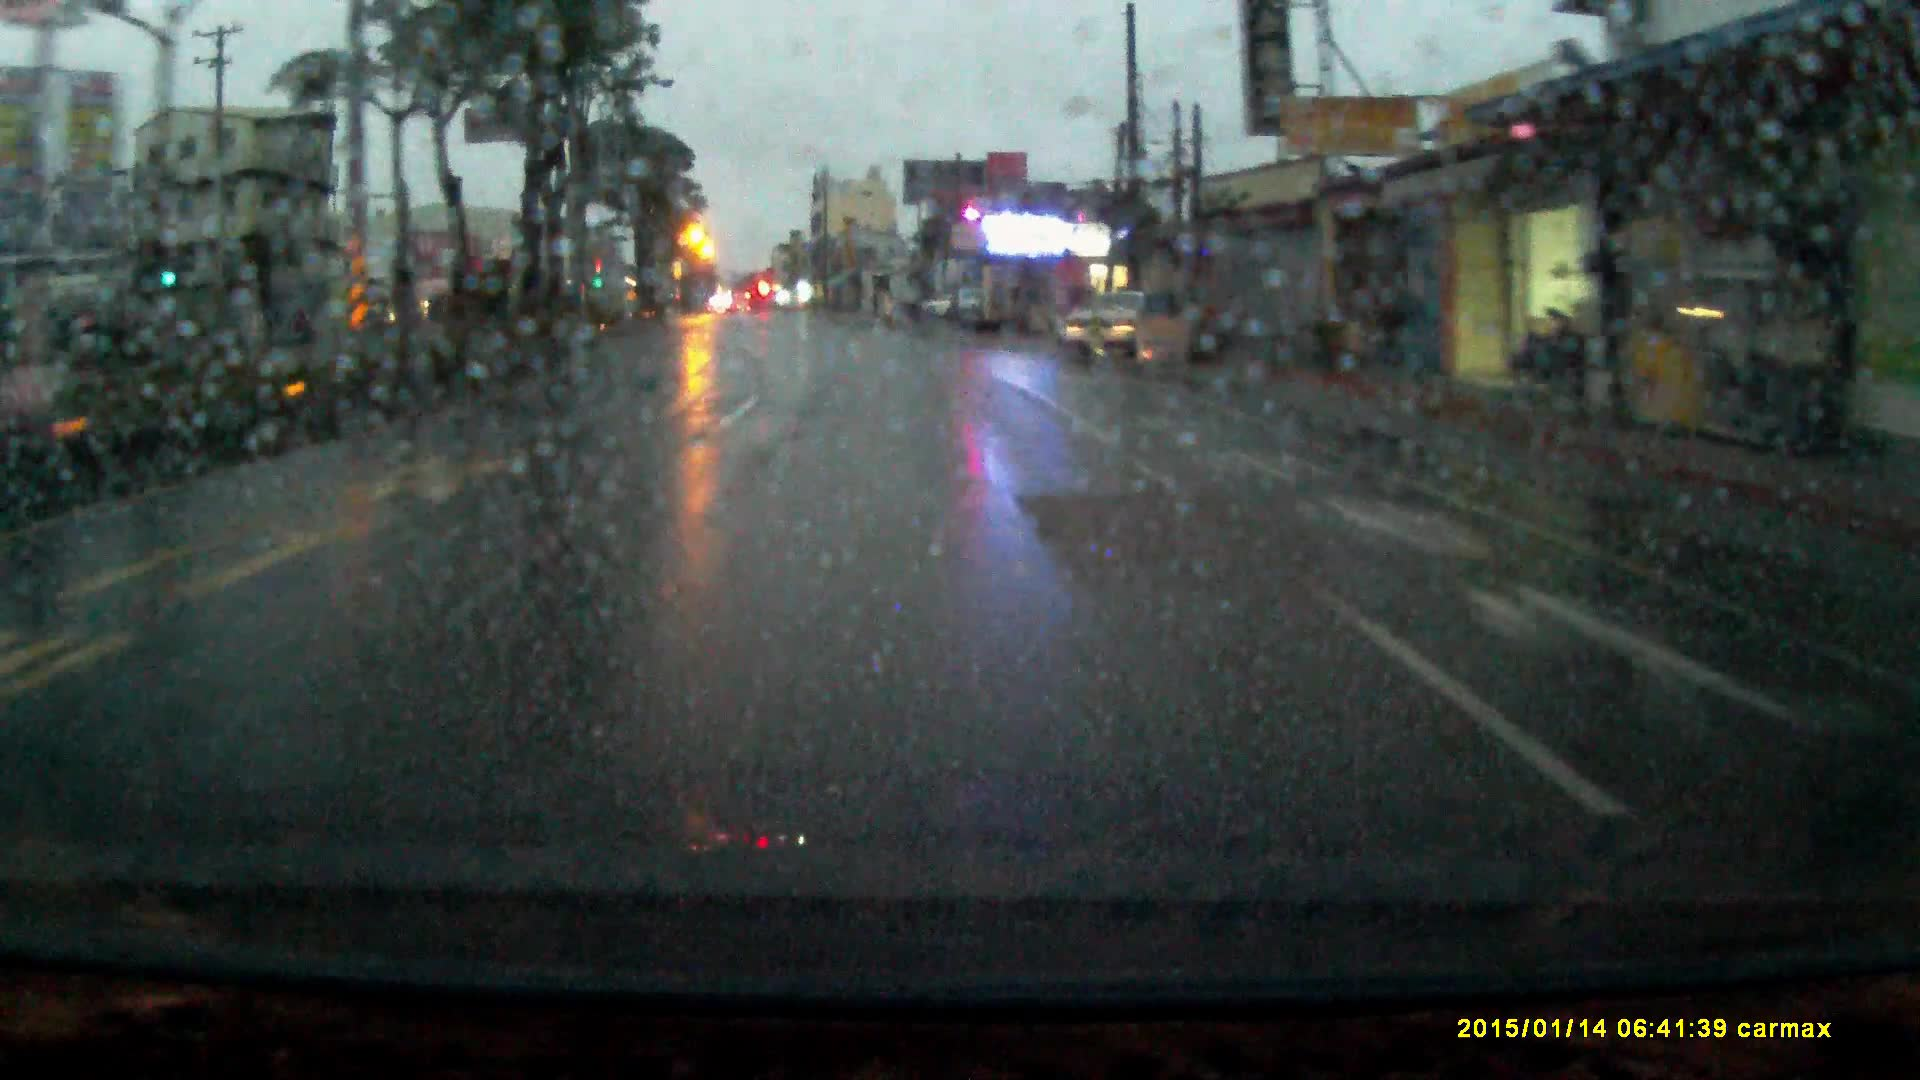vehicle: (1065, 290, 1196, 373), (916, 287, 988, 326)
